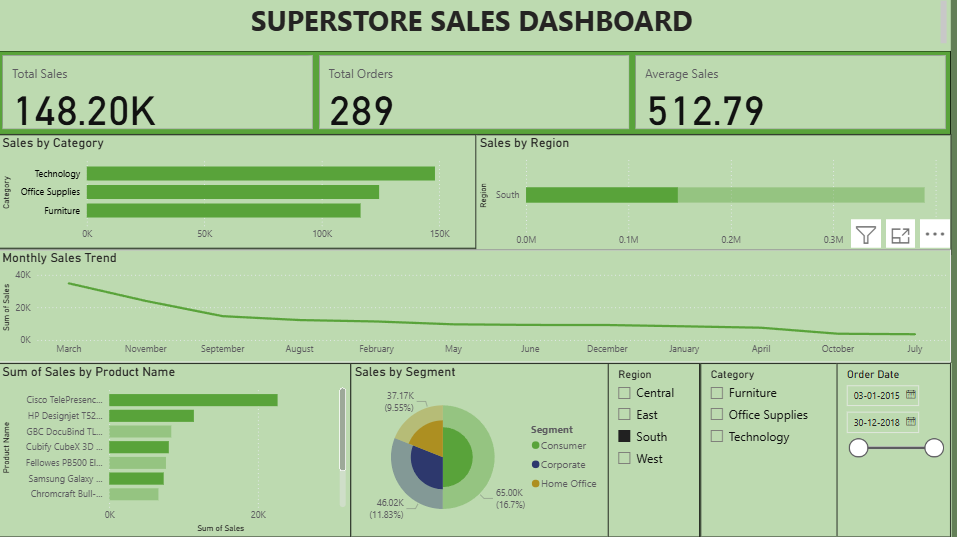

The dashboard page shown, as its layout file describes it:
{"tool":"powerbi","page":{"name":"Page 1","canvas":[1280,720],"ordinal":0},"visuals":[{"type":"cardVisual","fields":{"Data":["archive.Total Sales","archive.Total Orders","archive.Average Sales"]},"box":[0,71.7,1270,111.7],"z":0},{"type":"clusteredBarChart","title":"Sales by Category","fields":{"Category":["archive.Category"],"Y":["Sum(archive.Sales)"]},"box":[0,184,640,152],"z":1000},{"type":"clusteredBarChart","title":"Sales by Region","fields":{"Category":["archive.Region"],"Y":["Sum(archive.Sales)"]},"box":[636,184,634,160],"z":2000},{"type":"lineChart","title":"Monthly Sales Trend","fields":{"Category":["archive.Month"],"Y":["Sum(archive.Sales)"]},"box":[0,336,1270,152],"z":2001},{"type":"clusteredBarChart","fields":{"Category":["archive.Product Name"],"Y":["Sum(archive.Sales)"]},"box":[0,488,470,232],"z":2002},{"type":"pieChart","title":"Sales by Segment","fields":{"Category":["archive.Segment"],"Y":["Sum(archive.Sales)"]},"box":[470,488,344,232],"z":2003},{"type":"slicer","fields":{"Values":["archive.Region"]},"box":[814,488,122,232],"z":2004},{"type":"slicer","fields":{"Values":["archive.Category"]},"box":[936,488,182,232],"z":2005},{"type":"slicer","fields":{"Values":["archive.Order Date"]},"box":[1118,488,152,232],"z":2006},{"type":"textbox","box":[0,0,1270,71.7],"z":2007}]}

Visuals, with their boxes in screenshot pixels (x1, y1, x2, y2), scaled from the page's 1280x720 canvas onto the 957x537 screenshot:
cardVisual - archive.Total Sales x archive.Total Orders: (0,53,950,137)
"Sales by Category" clusteredBarChart: (0,137,478,251)
"Sales by Region" clusteredBarChart: (476,137,950,257)
"Monthly Sales Trend" lineChart: (0,251,950,364)
clusteredBarChart - archive.Product Name x Sum(archive.Sales): (0,364,351,536)
"Sales by Segment" pieChart: (351,364,609,536)
slicer - archive.Region: (609,364,700,536)
slicer - archive.Category: (700,364,836,536)
slicer - archive.Order Date: (836,364,950,536)
textbox: (0,0,950,53)
